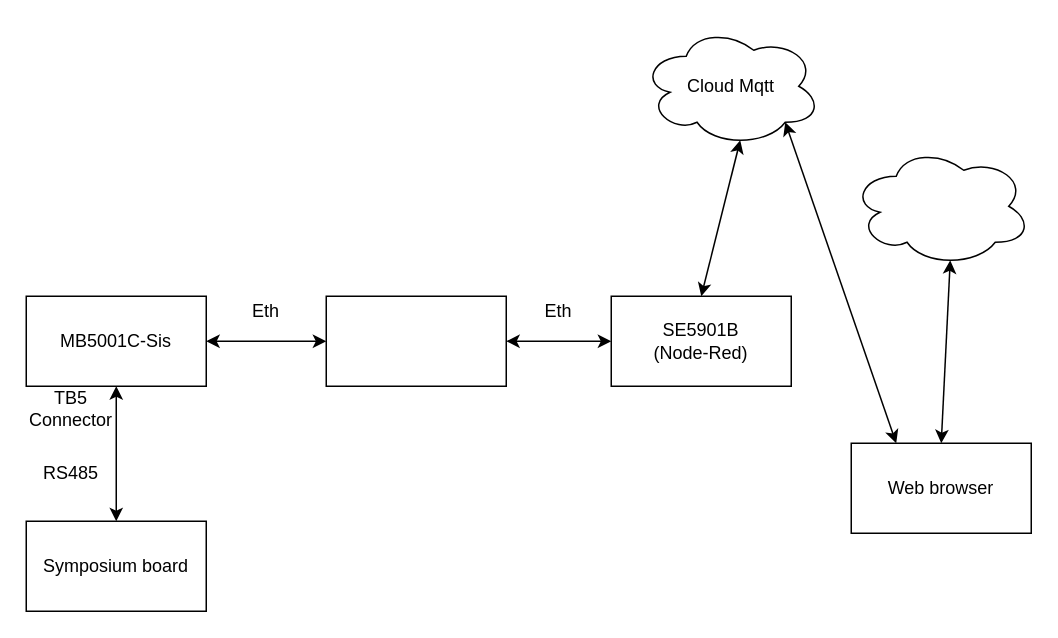
This 1058x638 diagram has some shape labels left out. The shapes that lost their labels are listed below. From the top down, each one's centre as x and y in pixels, then its label:
point (940, 205): Web server
point (415, 340): Ethernet Switch
